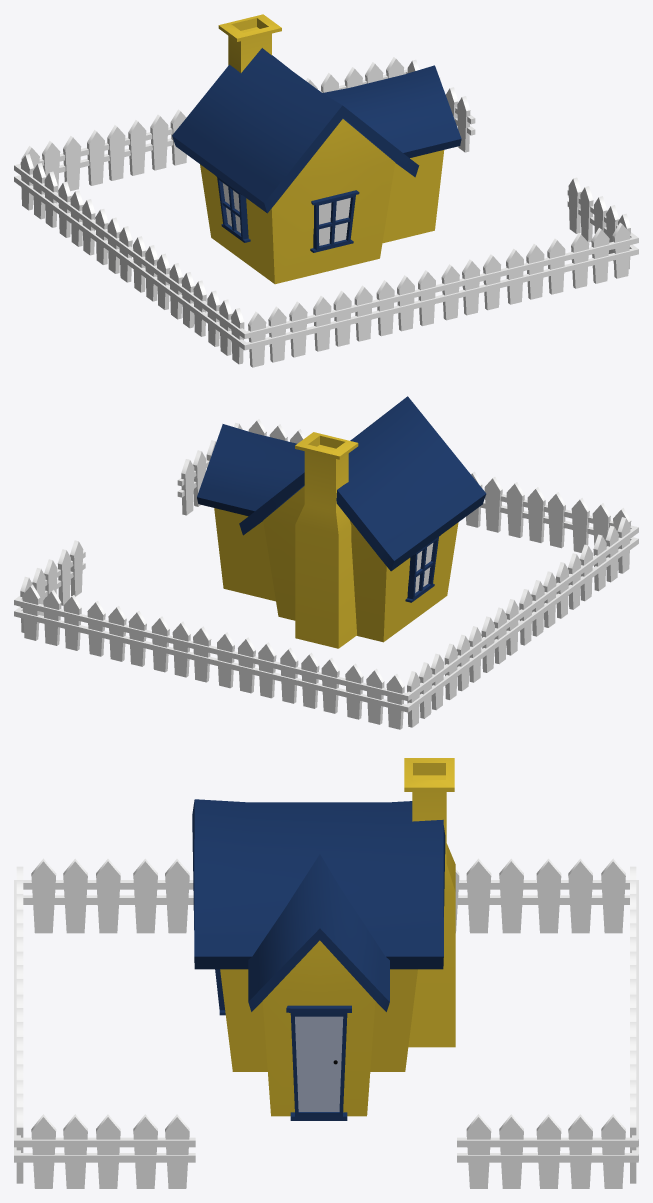
The model's file is blueH.obj.
3 views of the same model, one above another, from view 1: azimuth 30°, elevation 25°; view 2: azimuth 150°, elevation 25°; view 3: azimuth 270°, elevation 25° (orthographic). The views are drawn at different scales.
Parts seen in each view (by area): view 1: house_mainHouseRoof_largeHouse, house_largeHouse_mainHouse, house_smallHouseRoof, house_smallHoseRoof, Fence_house_fenceWood_pCube47, Fence_house_fenceWood_pCube46, house_window1, house_Chiminea, Fence_house_fenceWood_pCube124, Fence_house_fenceWood_pCube123, house_window2, Fence_house_pCube74 (+26 smaller); view 2: house_mainHouseRoof_largeHouse, house_Chiminea, house_largeHouse_mainHouse, house_smallHouseRoof, house_smallHoseRoof, Fence_house_fenceWood_pCube122, Fence_house_fenceWood_pCube121, Fence_house_fenceWood_pCube124, Fence_house_fenceWood_pCube123, house_window2, Fence_house_pCube21, Fence_house_pCube19 (+39 smaller); view 3: house_mainHouseRoof_largeHouse, house_smallHouseRoof, house_smallHoseRoof, house_Chiminea, house_largeHouse_mainHouse, house_door, Fence_house_fenceWood_pCube125, Fence_house_pCube127_fenceWood, Fence_house_fenceWood_pCube126, Fence_house_fenceWood_pCube128, Fence_house_polySurface33, Fence_house_polySurface12 (+22 smaller).
Boxes of the visible parts, x1,y1,x2,y2 form: house_mainHouseRoof_largeHouse: [172, 48, 419, 213]; house_largeHouse_mainHouse: [200, 119, 395, 284]; house_smallHouseRoof: [323, 65, 461, 157]; house_smallHoseRoof: [382, 150, 444, 243]; Fence_house_fenceWood_pCube47: [242, 248, 634, 350]; Fence_house_fenceWood_pCube46: [242, 237, 634, 338]; house_window1: [310, 190, 359, 252]; house_Chiminea: [218, 14, 281, 72]; Fence_house_fenceWood_pCube124: [14, 175, 246, 348]; Fence_house_fenceWood_pCube123: [14, 164, 245, 336]; house_window2: [216, 176, 250, 242]; Fence_house_pCube74: [150, 114, 168, 170]; house_mainHouseRoof_largeHouse: [239, 396, 486, 571]; house_Chiminea: [295, 432, 358, 648]; house_largeHouse_mainHouse: [263, 486, 458, 642]; house_smallHouseRoof: [197, 424, 304, 516]; house_smallHoseRoof: [214, 508, 275, 601]; Fence_house_fenceWood_pCube122: [16, 610, 405, 711]; Fence_house_fenceWood_pCube121: [16, 599, 405, 699]; Fence_house_fenceWood_pCube124: [403, 539, 636, 712]; Fence_house_fenceWood_pCube123: [403, 528, 636, 700]; house_window2: [405, 535, 440, 602]; Fence_house_pCube21: [506, 482, 524, 537]; Fence_house_pCube19: [548, 492, 565, 548]; house_mainHouseRoof_largeHouse: [192, 799, 445, 969]; house_smallHouseRoof: [248, 854, 389, 1011]; house_smallHoseRoof: [262, 940, 375, 1116]; house_Chiminea: [404, 758, 455, 1047]; house_largeHouse_mainHouse: [220, 969, 417, 1071]; house_door: [286, 1005, 351, 1120]; Fence_house_fenceWood_pCube125: [14, 1137, 195, 1147]; Fence_house_pCube127_fenceWood: [457, 1137, 638, 1147]; Fence_house_fenceWood_pCube126: [14, 1153, 195, 1162]; Fence_house_fenceWood_pCube128: [457, 1153, 638, 1162]; Fence_house_polySurface33: [31, 858, 56, 933]; Fence_house_polySurface12: [536, 858, 561, 933].
Size of the model in its own units: 10.04 by 4.72 by 10.18.
